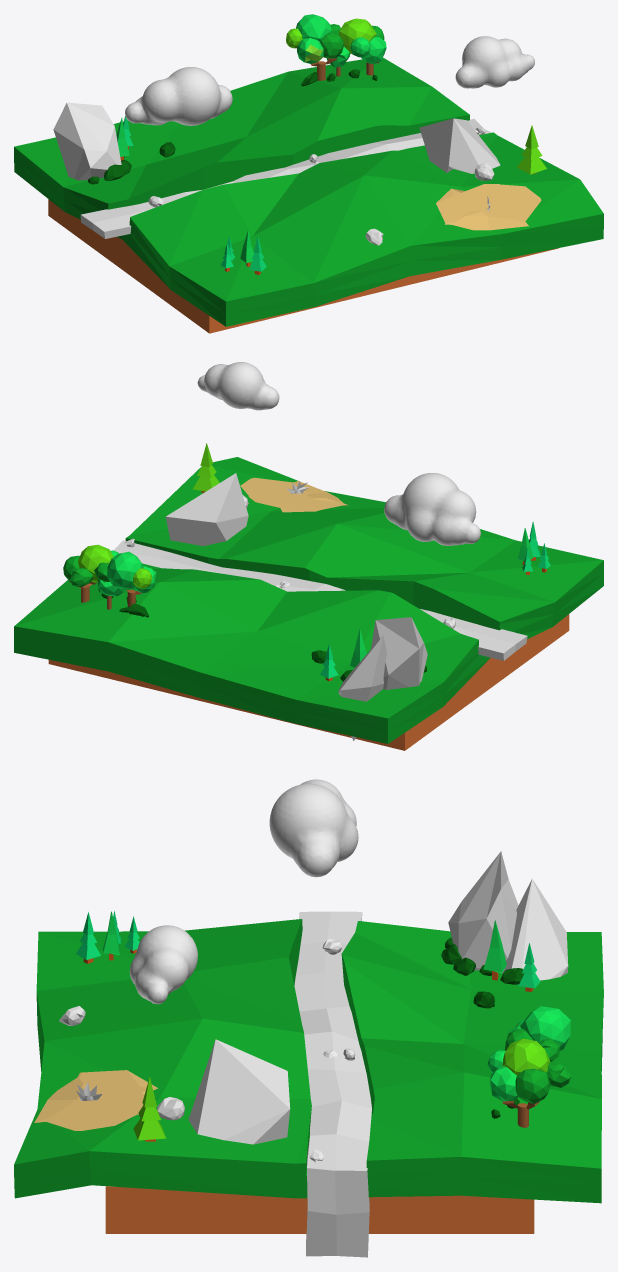
Rendered from floating_island.fbx.
3 views of the same model, one above another, from view 1: azimuth 30°, elevation 25°; view 2: azimuth 150°, elevation 25°; view 3: azimuth 270°, elevation 25° (orthographic). The views are drawn at different scales.
Parts seen in each view (by area): view 1: Cube, Mball, Icosphere, Circle, Plane, Icosphere.001, Icosphere.005, Cube.003, Icosphere.002, Icosphere.006; view 2: Cube, Icosphere, Mball, Plane, Circle, Icosphere.005, Icosphere.001, Cube.003, Icosphere.002; view 3: Cube, Plane, Icosphere, Mball, Circle, Icosphere.005, Cube.003, Icosphere.001, Icosphere.002, Icosphere.006, Cube.004.
Part boxes in pixels (left/top/right/bottom): Cube: left=14, top=57, right=603, bottom=333; Mball: left=125, top=36, right=534, bottom=125; Icosphere: left=53, top=102, right=500, bottom=180; Circle: left=436, top=184, right=541, bottom=230; Plane: left=80, top=118, right=491, bottom=238; Icosphere.001: left=286, top=14, right=343, bottom=80; Icosphere.005: left=326, top=18, right=386, bottom=76; Cube.003: left=123, top=116, right=546, bottom=274; Icosphere.002: left=88, top=69, right=377, bottom=184; Icosphere.006: left=365, top=163, right=494, bottom=245; Cube: left=14, top=457, right=603, bottom=750; Icosphere: left=165, top=473, right=427, bottom=740; Mball: left=197, top=362, right=480, bottom=545; Plane: left=114, top=540, right=527, bottom=660; Circle: left=240, top=477, right=348, bottom=512; Icosphere.005: left=63, top=544, right=123, bottom=609; Icosphere.001: left=94, top=551, right=156, bottom=606; Cube.003: left=192, top=443, right=550, bottom=681; Icosphere.002: left=98, top=589, right=426, bottom=681; Cube: left=14, top=919, right=603, bottom=1233; Plane: left=294, top=911, right=371, bottom=1257; Icosphere: left=188, top=851, right=568, bottom=1144; Mball: left=129, top=779, right=358, bottom=1004; Circle: left=34, top=1070, right=157, bottom=1130; Icosphere.005: left=487, top=1038, right=571, bottom=1127; Cube.003: left=76, top=911, right=540, bottom=1141; Icosphere.001: left=505, top=1006, right=570, bottom=1061; Icosphere.002: left=441, top=937, right=523, bottom=1118; Icosphere.006: left=59, top=1006, right=184, bottom=1120; Cube.004: left=483, top=920, right=506, bottom=980.
Bounding box in the file's own units: 284 × 149 × 275.
